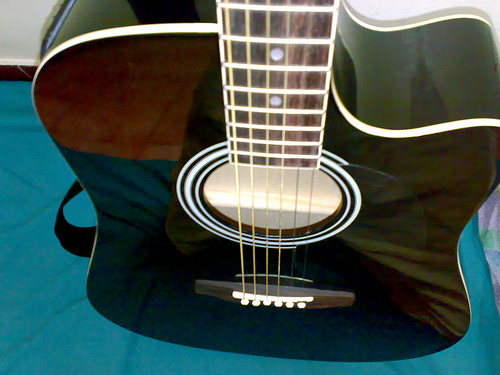guitar: (27, 1, 498, 364)
